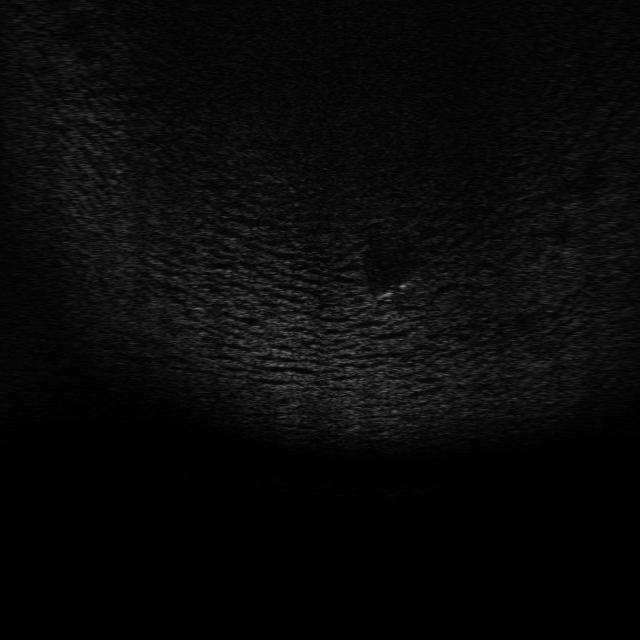plane: (361, 269, 427, 307)
